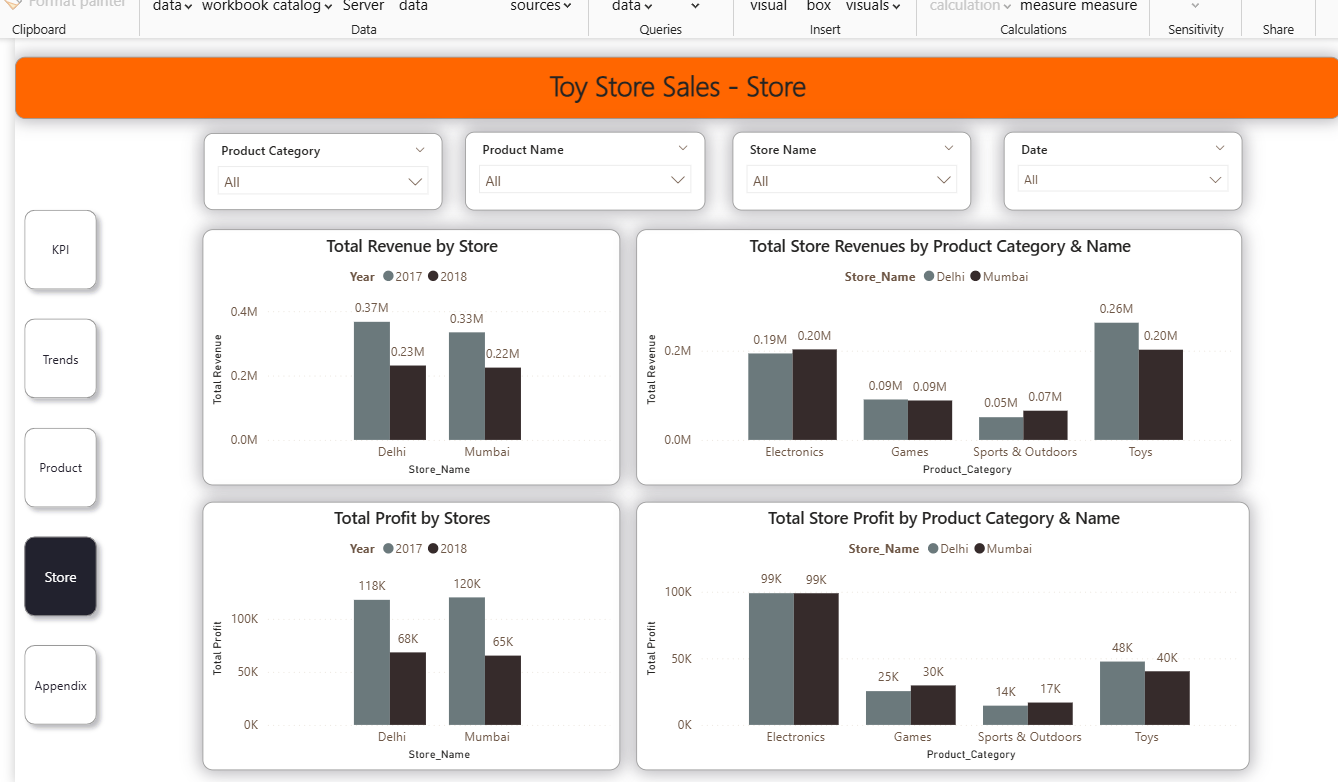

The dashboard page shown, as its layout file describes it:
{"tool":"powerbi","page":{"name":"Store","canvas":[1280,720],"ordinal":3},"visuals":[{"type":"textbox","box":[0,17.9,1280.1,60.2],"z":0},{"type":"slicer","fields":{"Values":["Dim_products.Product_Category"]},"box":[182.2,92,230.2,74.5],"z":1000,"group":"g1"},{"type":"clusteredColumnChart","title":"Total Revenue by Store","fields":{"Y":["DaxMeasures.Total Revenue"],"Category":["Dim_store.Store_Name","Fact_sales.Date.Variation.Date Hierarchy.Year","Fact_sales.Date.Variation.Date Hierarchy.Month"],"Series":["Fact_sales.Date.Variation.Date Hierarchy.Year"]},"box":[181,184.6,403,247.3],"z":1000},{"type":"slicer","fields":{"Values":["Dim_products.Product_Name"]},"box":[434.1,90.5,231.9,76],"z":2000,"group":"g1"},{"type":"clusteredColumnChart","title":"Total Store Revenues by Product Category & Name","fields":{"Category":["Dim_products.Product_Category","Dim_products.Product_Name"],"Y":["DaxMeasures.Total Revenue"],"Series":["Dim_store.Store_Name"]},"box":[599.6,184.6,585.1,247.3],"z":2000},{"type":"slicer","fields":{"Values":["Dim_store.Store_Name"]},"box":[692.7,90.5,230.2,76],"z":3000,"group":"g1"},{"type":"clusteredColumnChart","title":"Total Profit by Stores","fields":{"Category":["Dim_store.Store_Name","Fact_sales.Date.Variation.Date Hierarchy.Year","Fact_sales.Date.Variation.Date Hierarchy.Month"],"Y":["DaxMeasures.Total Profit"],"Series":["Fact_sales.Date.Variation.Date Hierarchy.Year"]},"box":[181,447.6,403,259.4],"z":3000},{"type":"slicer","fields":{"Values":["Fact_sales.Date"]},"box":[954.5,90.5,230.2,76],"z":4000,"group":"g1"},{"type":"clusteredColumnChart","title":"Total Store Profit by Product Category & Name","fields":{"Category":["Dim_products.Product_Category","Dim_products.Product_Name"],"Y":["DaxMeasures.Total Profit"],"Series":["Dim_store.Store_Name"]},"box":[599.6,447.6,592.4,259.4],"z":4000},{"type":"group","id":"g1","title":"Group 2","box":[182.2,90.5,1002.6,76],"z":5000},{"type":"pageNavigator","box":[0,156.8,88.1,517.6],"z":6000}]}

Visuals, with their boxes on the page's 1280x720 design canvas (x1, y1, x2, y2). These are canvas units, not pixel positions in the 1338x782 screenshot, which may show the page scaled, cropped or inside an application window:
textbox: Rect(0, 18, 1280, 78)
slicer - Dim_products.Product_Category: Rect(182, 92, 412, 166)
"Total Revenue by Store" clusteredColumnChart: Rect(181, 185, 584, 432)
slicer - Dim_products.Product_Name: Rect(434, 90, 666, 166)
"Total Store Revenues by Product Category & Name" clusteredColumnChart: Rect(600, 185, 1185, 432)
slicer - Dim_store.Store_Name: Rect(693, 90, 923, 166)
"Total Profit by Stores" clusteredColumnChart: Rect(181, 448, 584, 707)
slicer - Fact_sales.Date: Rect(954, 90, 1185, 166)
"Total Store Profit by Product Category & Name" clusteredColumnChart: Rect(600, 448, 1192, 707)
"Group 2" group: Rect(182, 90, 1185, 166)
pageNavigator: Rect(0, 157, 88, 674)
